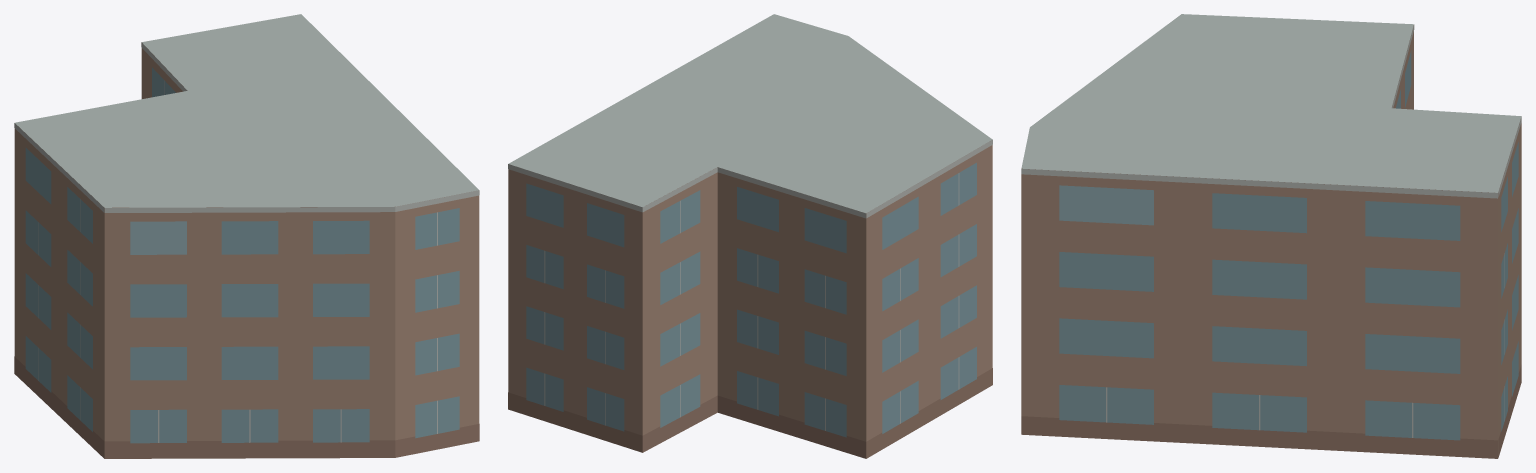
Rendered from survey-upis-32912376.glb.
3 views of the same model, side by side, from view 1: azimuth 30°, elevation 25°; view 2: azimuth 150°, elevation 25°; view 3: azimuth 270°, elevation 25° (orthographic). The views are drawn at different scales.
Visible parts, largest first — view 1: survey-upis-32912376.tmp; view 2: survey-upis-32912376.tmp; view 3: survey-upis-32912376.tmp.
Boxes of the visible parts, bbox=[...] form: survey-upis-32912376.tmp: bbox=[14, 14, 479, 458]; survey-upis-32912376.tmp: bbox=[508, 14, 992, 458]; survey-upis-32912376.tmp: bbox=[1021, 14, 1521, 458].
Bounding box in the file's own units: 16.66 × 11.54 × 19.68.
